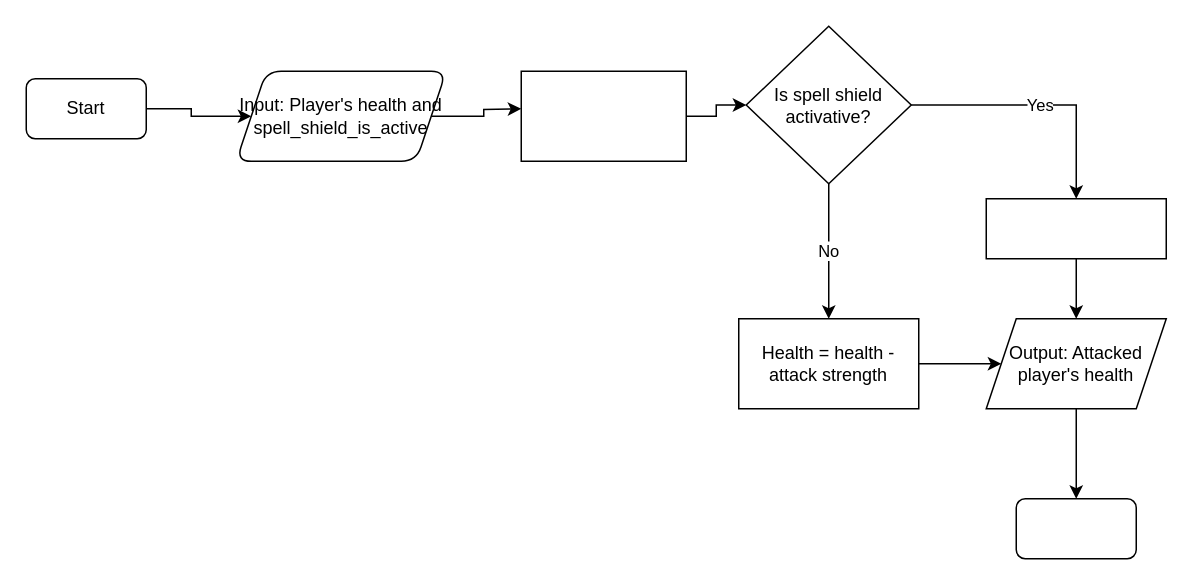
Some shapes in this 1193 by 585 pixel diagram are drawn without their labels. Here are the shapes that lost their labels. From the top down, the centre of each, then its label:
[603,115]: Generate random number for attack strength (1-10)
[1075,228]: Health = health -attack strength/2
[1075,528]: End
